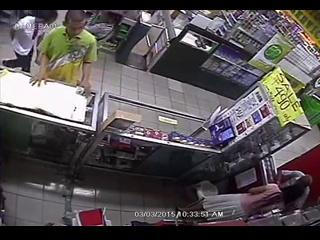Normal: (29, 10, 98, 96), (4, 11, 56, 73)
